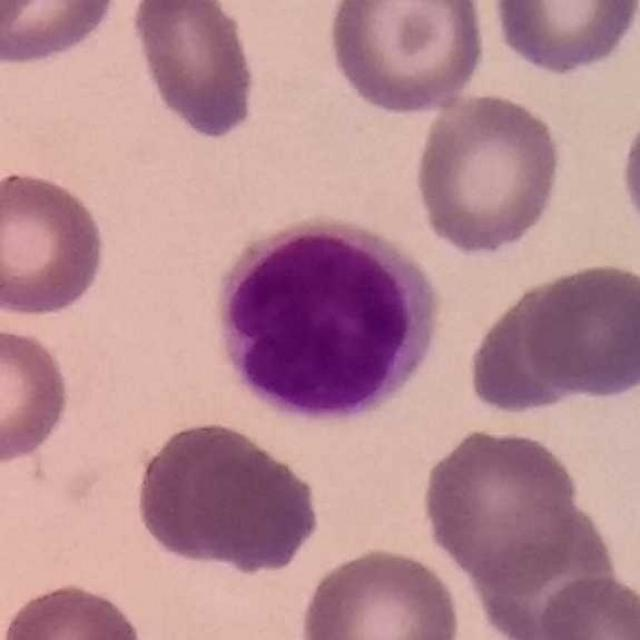Lymphocyte: (207, 213, 446, 430)
RBC: (128, 417, 323, 578), (419, 422, 583, 591), (122, 501, 320, 635), (411, 88, 566, 258), (475, 497, 624, 640), (125, 0, 262, 147), (324, 0, 490, 118), (468, 282, 612, 414), (518, 258, 640, 401), (0, 167, 110, 321), (295, 543, 465, 640), (487, 0, 640, 79), (0, 320, 75, 468), (0, 577, 149, 640), (0, 0, 124, 69), (533, 572, 640, 640), (616, 93, 640, 253)
